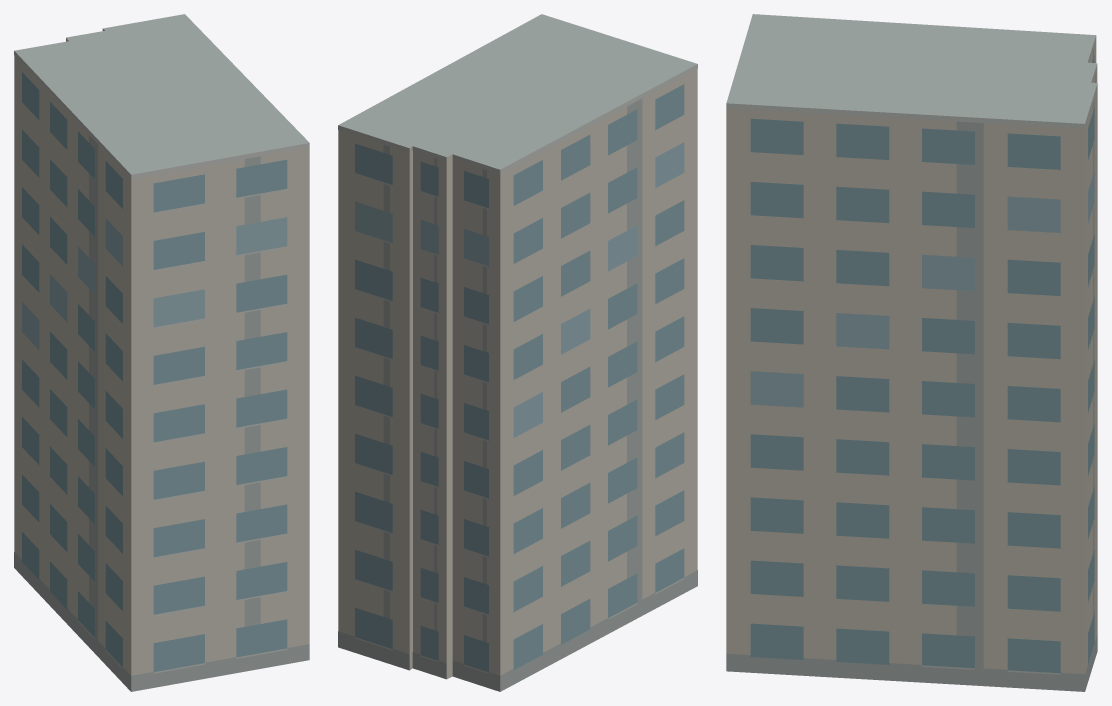
The model's file is survey-upis-32823220.glb.
3 views of the same model, side by side, from view 1: azimuth 30°, elevation 25°; view 2: azimuth 150°, elevation 25°; view 3: azimuth 270°, elevation 25° (orthographic). The views are drawn at different scales.
Parts seen in each view (by area): view 1: survey-upis-32823220.tmp; view 2: survey-upis-32823220.tmp; view 3: survey-upis-32823220.tmp.
Part boxes in pixels (left/top/right/bottom): survey-upis-32823220.tmp: left=14, top=14, right=309, bottom=691; survey-upis-32823220.tmp: left=338, top=14, right=697, bottom=691; survey-upis-32823220.tmp: left=726, top=14, right=1097, bottom=691.
Size of the model in its own units: 11.4 by 27.45 by 16.27.
